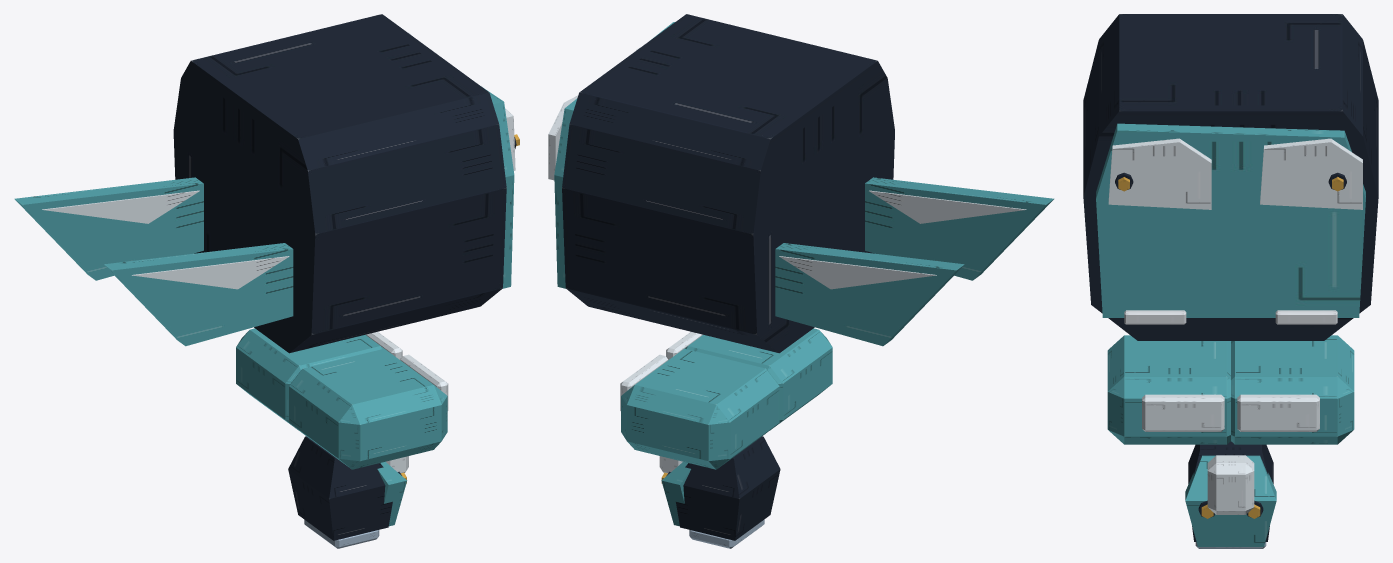
Rendered from windrunner.glb.
3 renders of one model, left to right at view 1: azimuth 30°, elevation 25°; view 2: azimuth 150°, elevation 25°; view 3: azimuth 270°, elevation 25°, orthographic. The views are drawn at different scales.
Parts seen in each view (by area): view 1: chest, arm_R, forearm_L, arm_L; view 2: chest, arm_L, forearm_L, arm_R; view 3: chest, arm_L, arm_R, forearm_L.
Part boxes in pixels (left/top/right/bottom): chest: left=14, top=14, right=519, bottom=353; arm_R: left=289, top=348, right=448, bottom=469; forearm_L: left=288, top=436, right=407, bottom=548; arm_L: left=236, top=328, right=408, bottom=473; chest: left=548, top=14, right=1054, bottom=353; arm_L: left=620, top=348, right=779, bottom=473; forearm_L: left=661, top=436, right=780, bottom=548; arm_R: left=666, top=328, right=832, bottom=430; chest: left=1083, top=14, right=1378, bottom=340; arm_L: left=1207, top=335, right=1354, bottom=514; arm_R: left=1107, top=335, right=1230, bottom=444; forearm_L: left=1185, top=441, right=1276, bottom=548.
Size of the model in its own units: 0.4985 by 0.5405 by 0.304.
6 materials, 6 textured.
